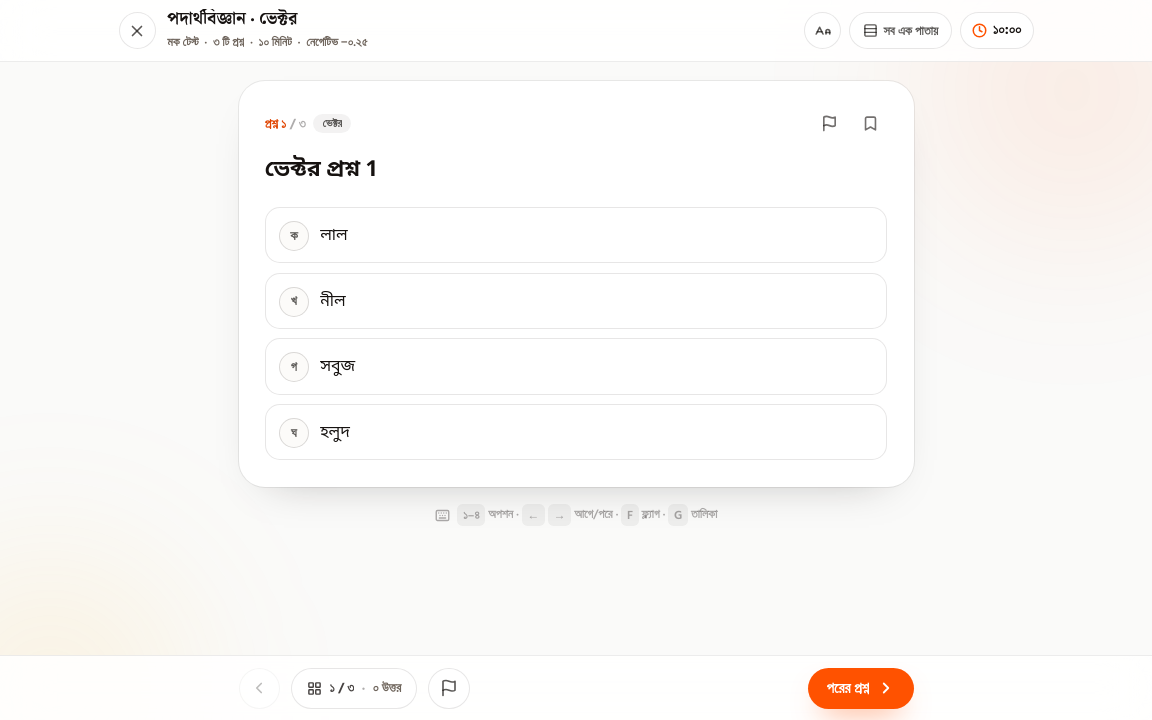
ExamPage › runs a single-page exam from the launch config through to the result
Click the button "ক লাল". click: [294, 236]
box: [265,207,887,263]
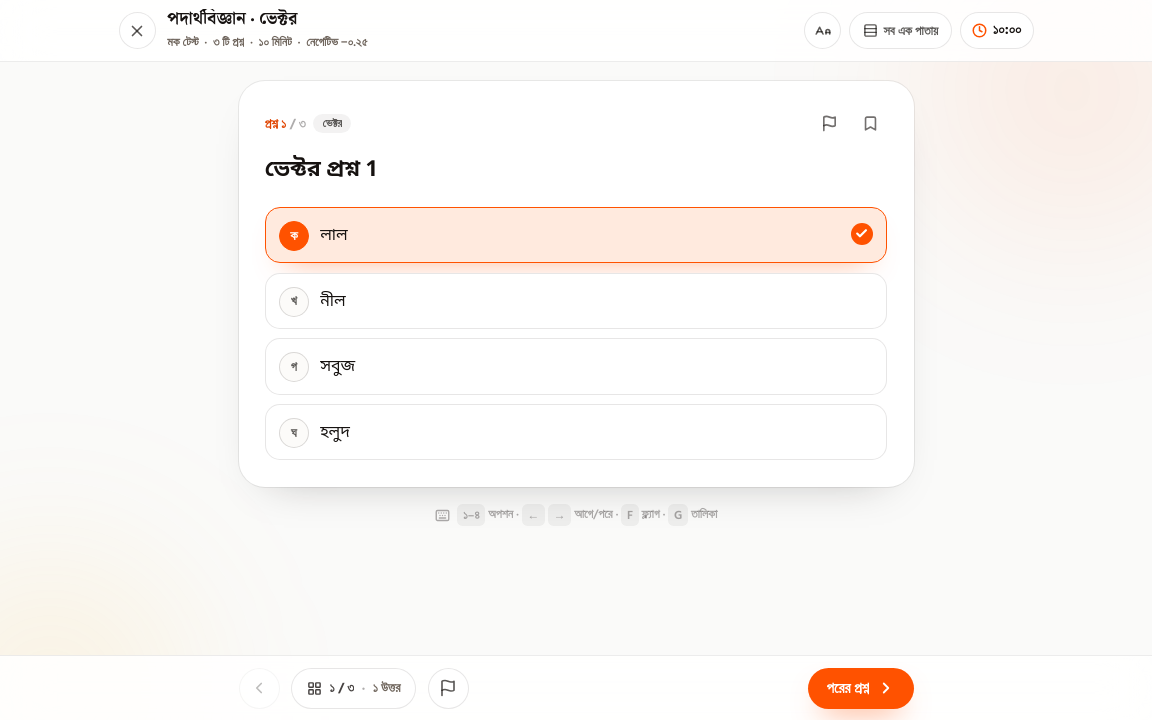
Expected: the button "ক লাল" is pressed, [265,207,887,263]
Click the button "পরের প্রশ্ন". click: [861, 688]
box: [808,668,914,709]
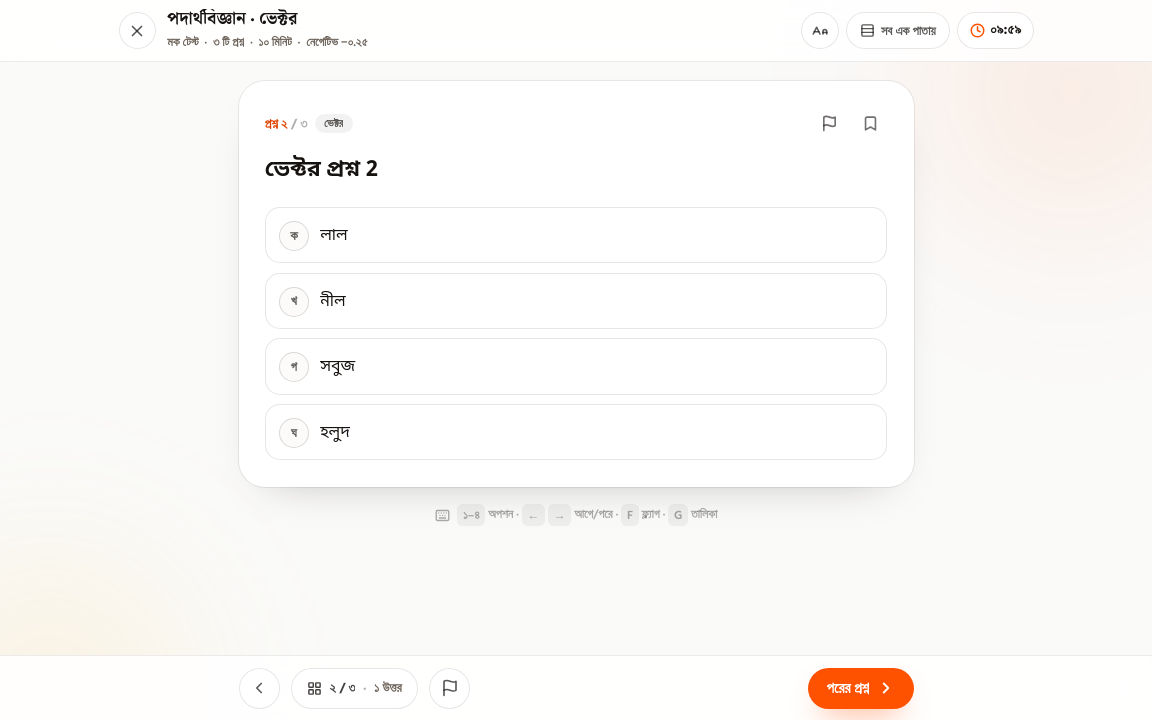
Expected: the text "ভেক্টর প্রশ্ন 2" is shown, [265,156,378,185]
Click the button "ঘ হলুদ". click: [294, 433]
box: [265,404,887,460]
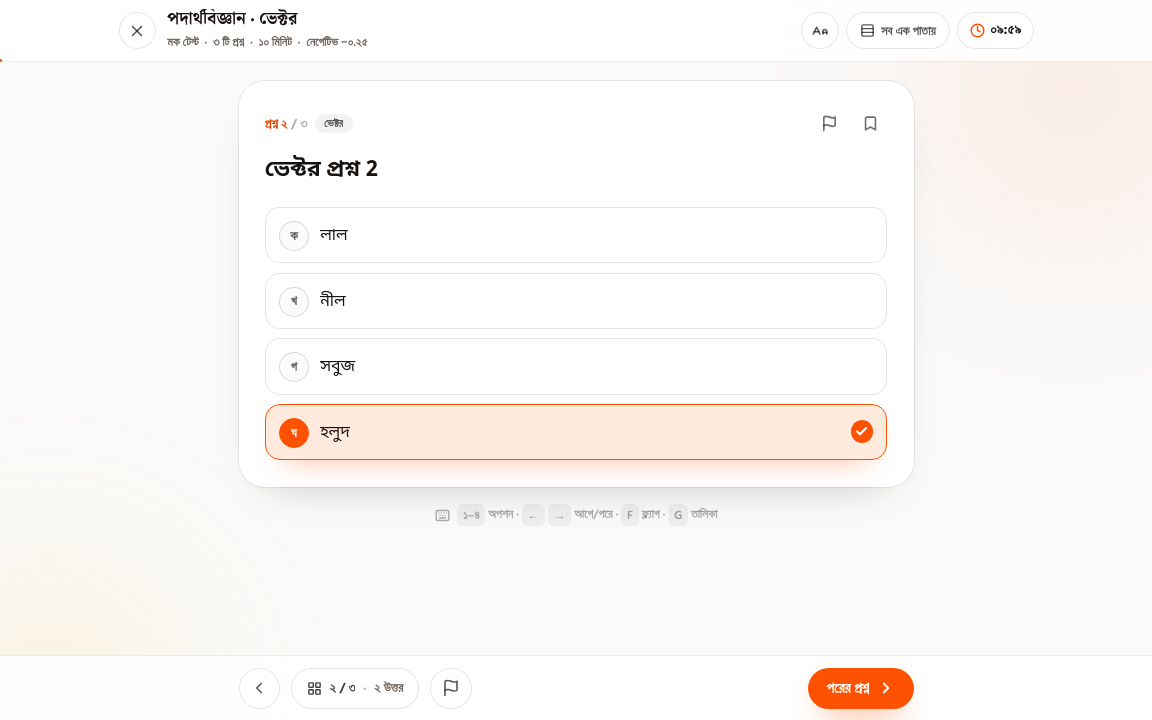
Click the button "পরের প্রশ্ন". click: [861, 688]
box: [808,668,914,709]
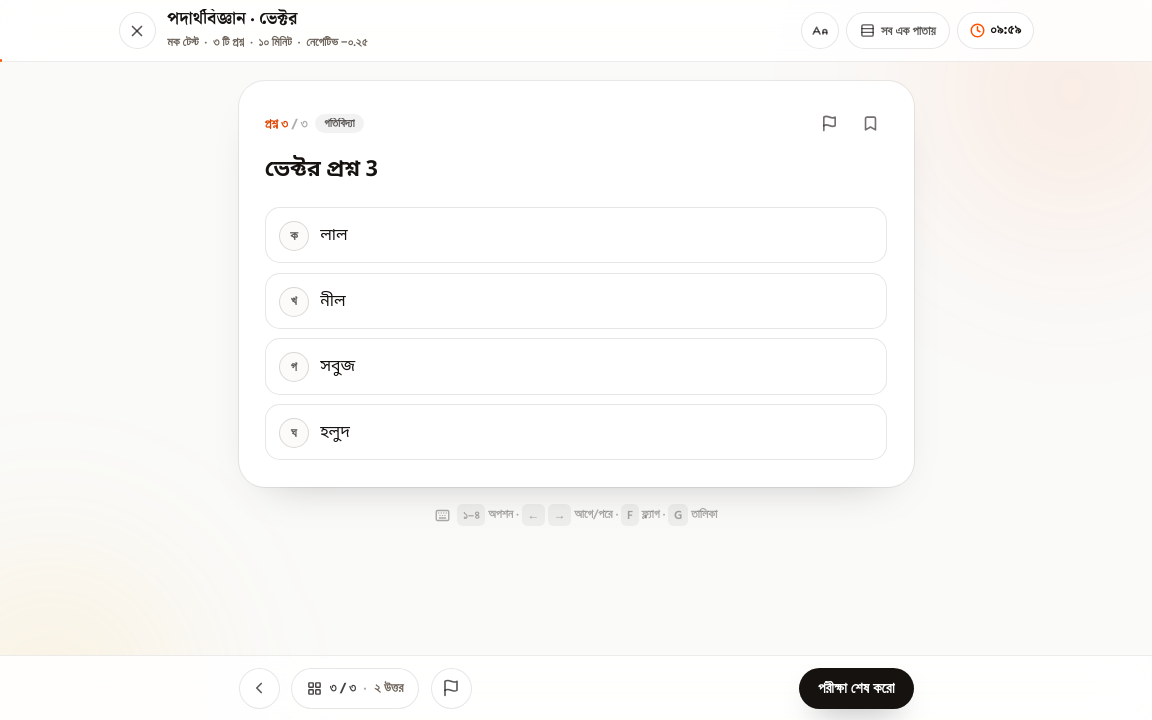
Expected: the text "ভেক্টর প্রশ্ন 3" is shown, [265,156,378,185]
Click the button "পরীক্ষা শেষ করো". click: [856, 688]
box: [799,668,914,709]
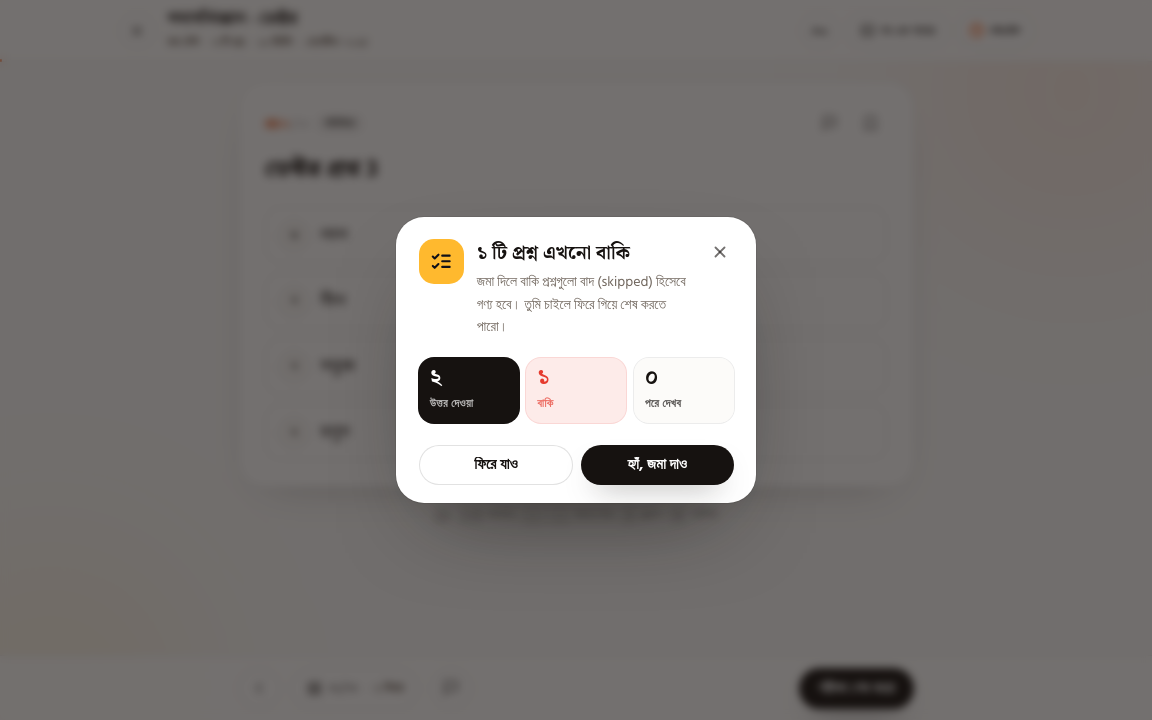
Expected: the text "১ টি প্রশ্ন এখনো বাকি" is shown, [477,238,630,269]
Click the button "হ্যাঁ, জমা দাও". click: [657, 465]
box: [581,445,734,485]
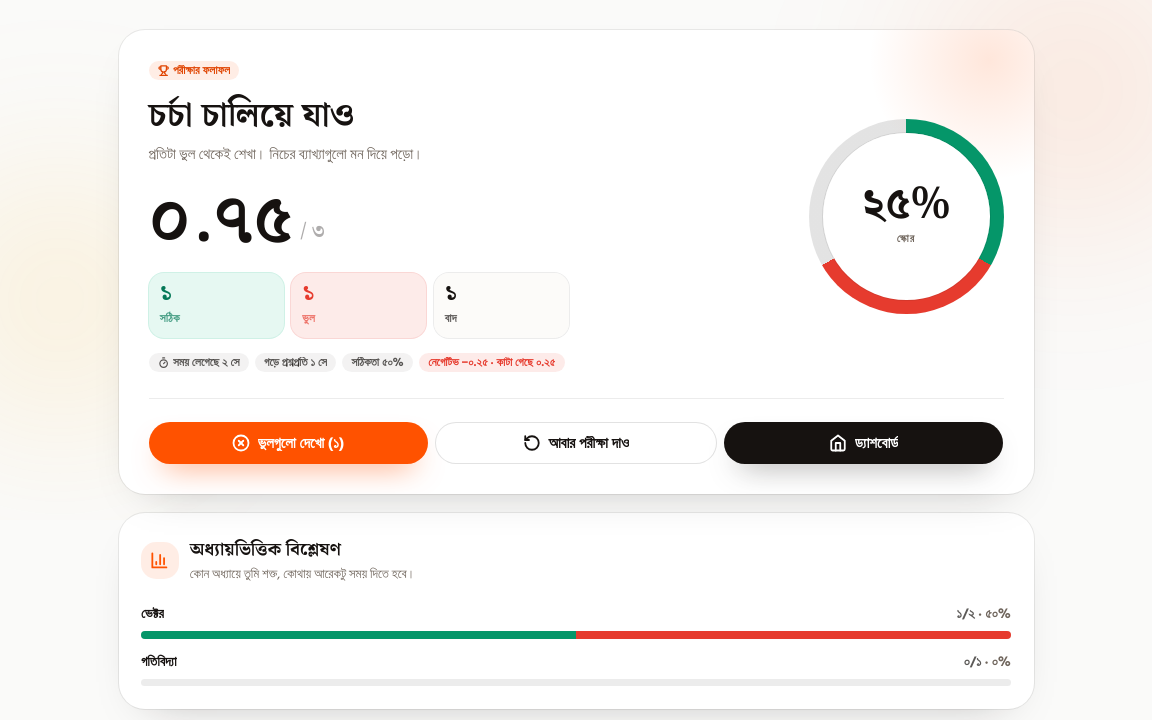
Expected: the element that starts with "পরীক্ষার ফলাফল" is shown
